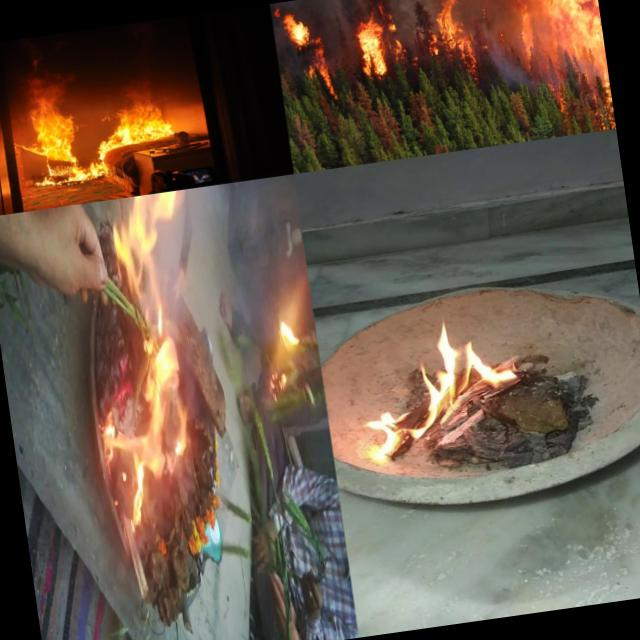fire: (362, 310, 534, 458), (152, 484, 210, 640), (511, 0, 608, 87), (226, 540, 295, 640), (25, 82, 86, 186), (89, 85, 174, 152), (273, 0, 334, 88), (350, 0, 404, 78), (84, 156, 106, 182)
smoke: (155, 262, 240, 549), (120, 267, 184, 486), (473, 13, 528, 104)
